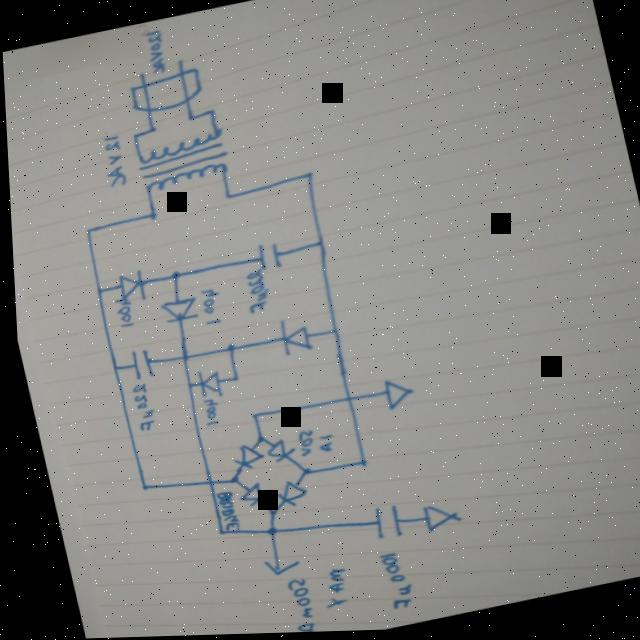capacitor: (361, 504, 398, 547), (248, 239, 281, 273), (124, 347, 150, 382)
crossover: (337, 395, 348, 405), (198, 479, 209, 488), (175, 355, 185, 362)
diode: (268, 317, 309, 361), (153, 295, 198, 327), (111, 268, 146, 305), (228, 480, 267, 513), (266, 478, 303, 510), (223, 442, 261, 473), (190, 367, 220, 402), (258, 437, 292, 465)
ground: (413, 501, 457, 539), (375, 376, 412, 414)
junction: (165, 270, 179, 281), (258, 527, 272, 538), (220, 343, 233, 354), (293, 467, 305, 478), (222, 476, 234, 486), (260, 509, 271, 519), (351, 459, 362, 469), (300, 172, 311, 181), (311, 240, 322, 249), (243, 412, 254, 421), (179, 381, 189, 390), (145, 211, 155, 220), (90, 287, 101, 295), (133, 483, 142, 492), (250, 436, 259, 444), (145, 127, 155, 134), (226, 376, 235, 383), (105, 365, 114, 372), (325, 329, 334, 336), (209, 530, 219, 536), (184, 115, 192, 122), (205, 109, 213, 116), (129, 132, 137, 139), (80, 228, 89, 234), (220, 194, 229, 200)
terminal: (254, 554, 294, 579), (169, 54, 187, 69), (131, 69, 146, 82)
text: (368, 551, 411, 615), (276, 577, 311, 634), (95, 133, 128, 190), (308, 566, 347, 614), (123, 380, 154, 433), (235, 270, 268, 317), (140, 29, 169, 76), (208, 488, 236, 536), (192, 287, 222, 327), (108, 296, 134, 329), (193, 397, 218, 430), (288, 429, 312, 459), (309, 434, 331, 455)
transformer: (130, 129, 232, 197)
